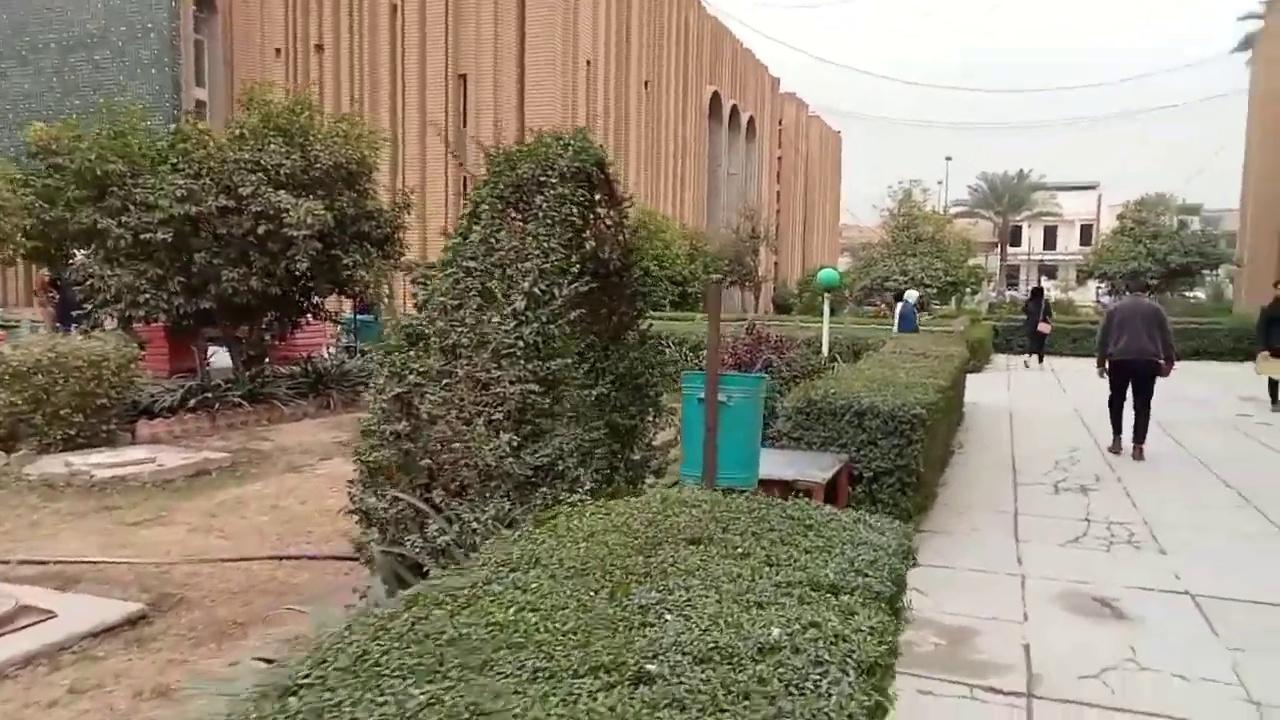person: (1094, 277, 1176, 460), (1254, 280, 1279, 410), (1022, 285, 1053, 367), (892, 288, 920, 333)
tree: (340, 123, 697, 589), (1, 77, 415, 384), (0, 95, 173, 349), (841, 182, 983, 315), (1080, 190, 1234, 303), (951, 166, 1061, 293), (624, 203, 710, 313), (705, 199, 780, 314)
